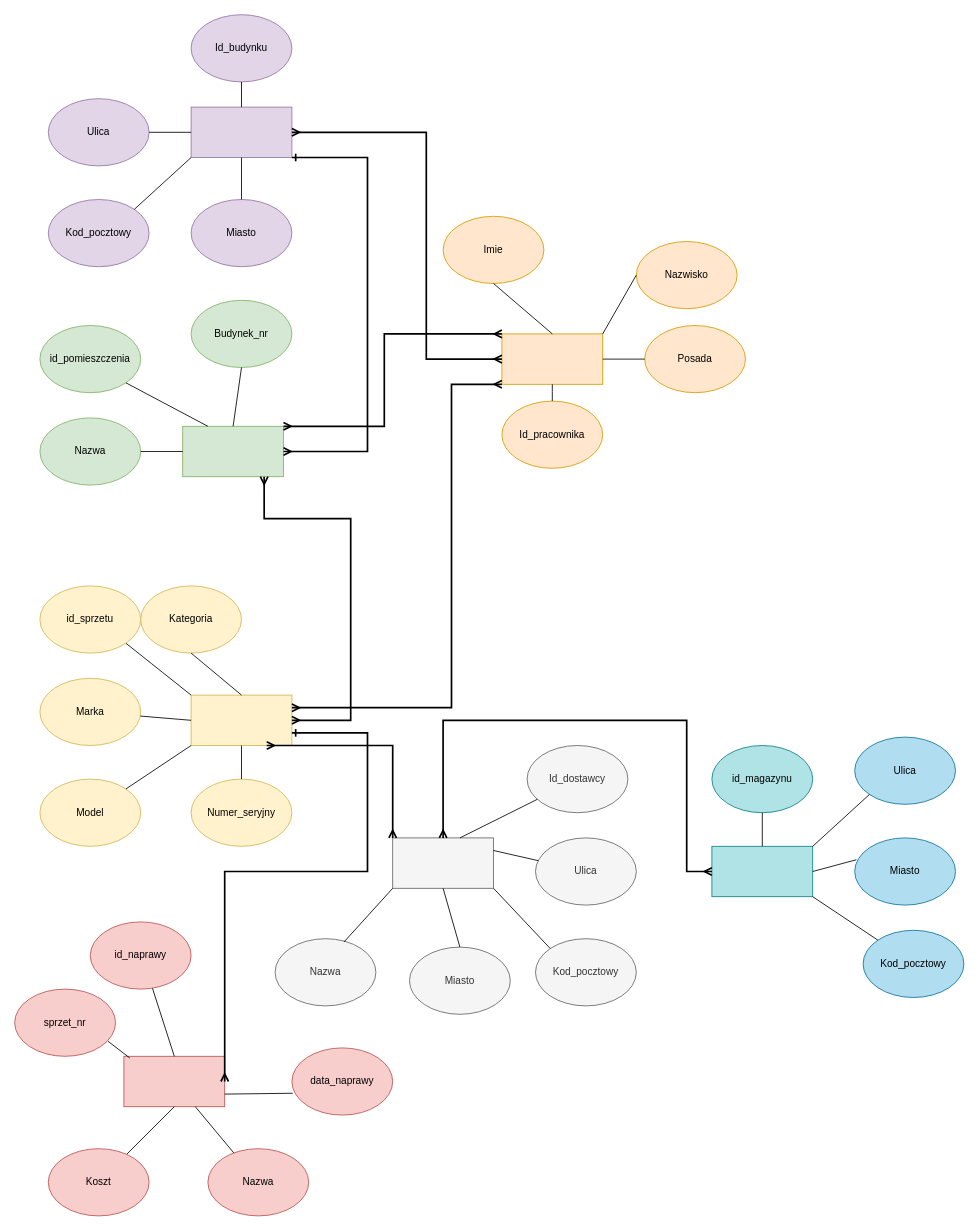
Image size: 979x1231. Some labels were removed from this diagram. Each missing label, with the box of its shape:
Budynek: (190, 106, 292, 158)
Dostawca: (392, 837, 494, 888)
Magazyn: (711, 845, 813, 897)
Naprawa: (123, 1055, 225, 1107)
Pomieszczenie: (182, 425, 284, 477)
Pracownik: (501, 333, 603, 384)
Sprzet: (190, 694, 292, 746)
